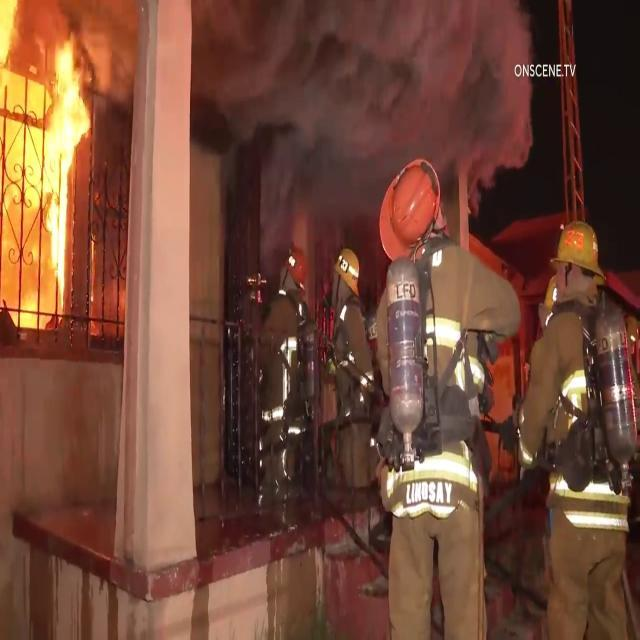Smoke: (192, 0, 554, 203)
